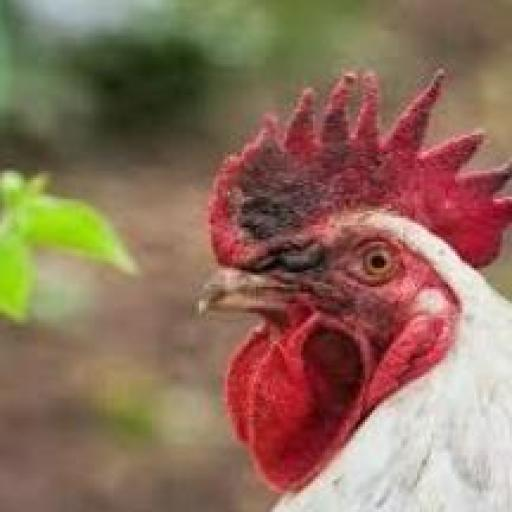disease: (239, 132, 380, 301)
